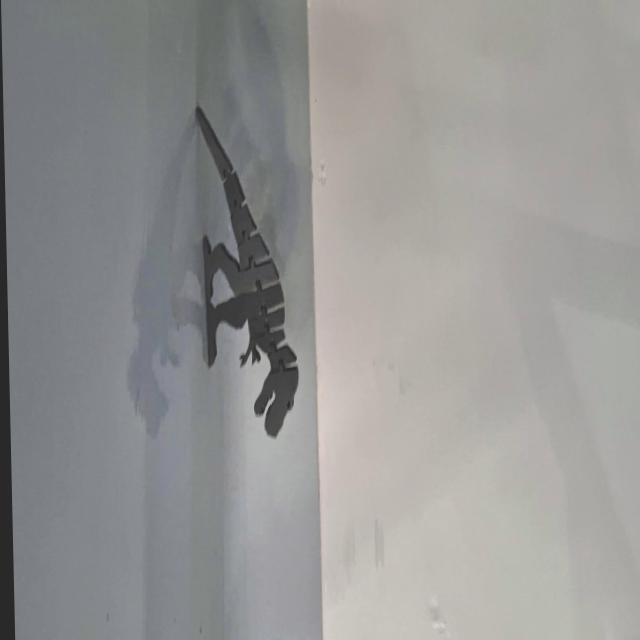dino: (193, 105, 301, 441)
